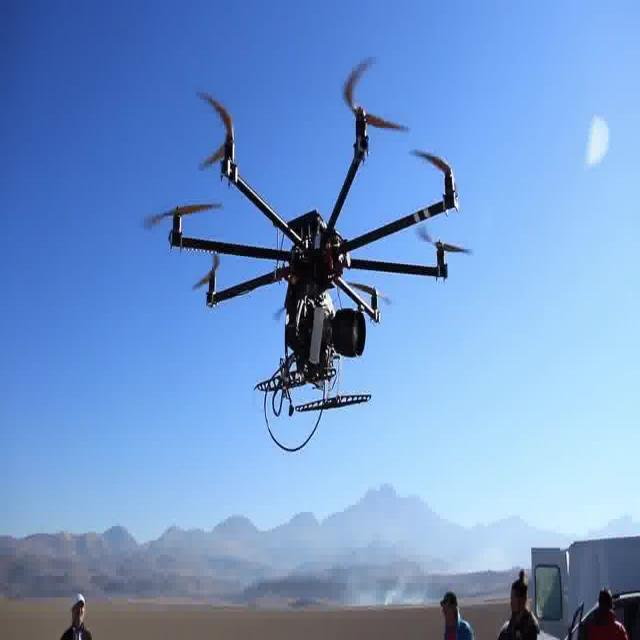drones: (135, 48, 479, 460)
